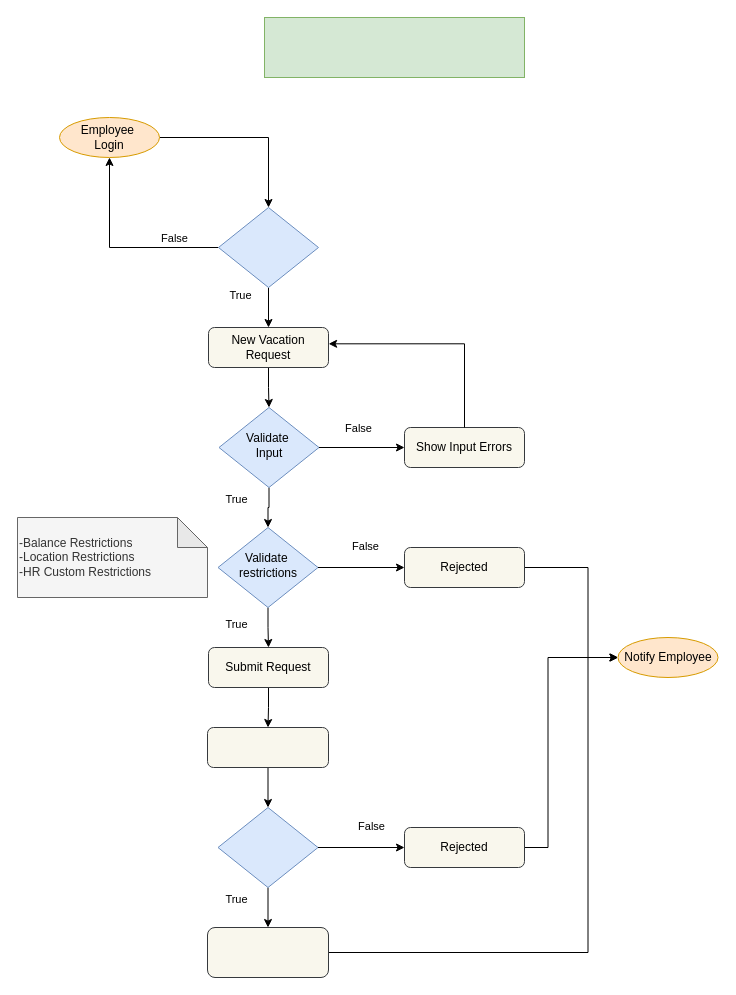
Image size: 736x995. Some labels were removed from this diagram. The box of each missing label's shape, as (x1, y1, x2, y2) in pixels:
Authenticate: (218, 206, 318, 288)
Deduct Vacation Balance: (206, 926, 328, 978)
Make Vacation Request Flow: (264, 16, 524, 78)
Manager Approval: (217, 806, 318, 888)
Notify Manager: (206, 726, 328, 768)
